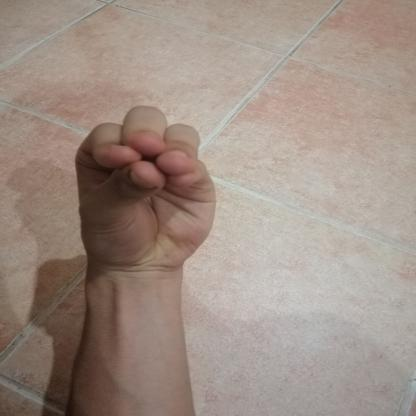HA: (57, 94, 238, 284)
